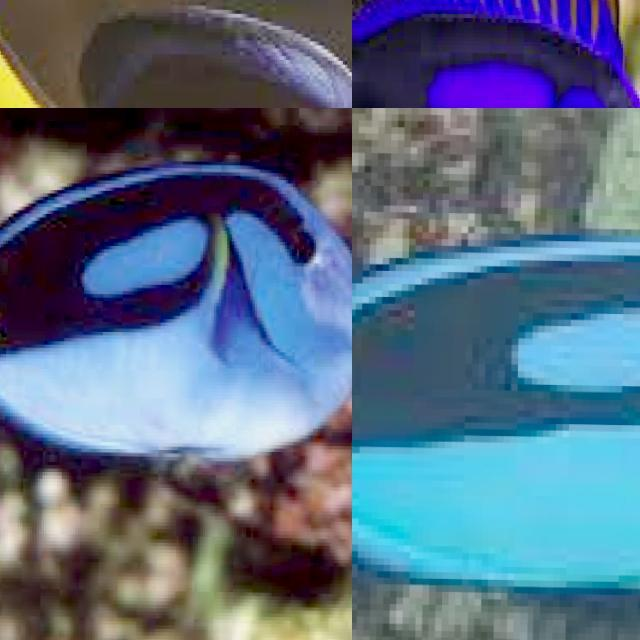BlueTang: (0, 165, 350, 467), (352, 234, 640, 594), (352, 0, 640, 108)
